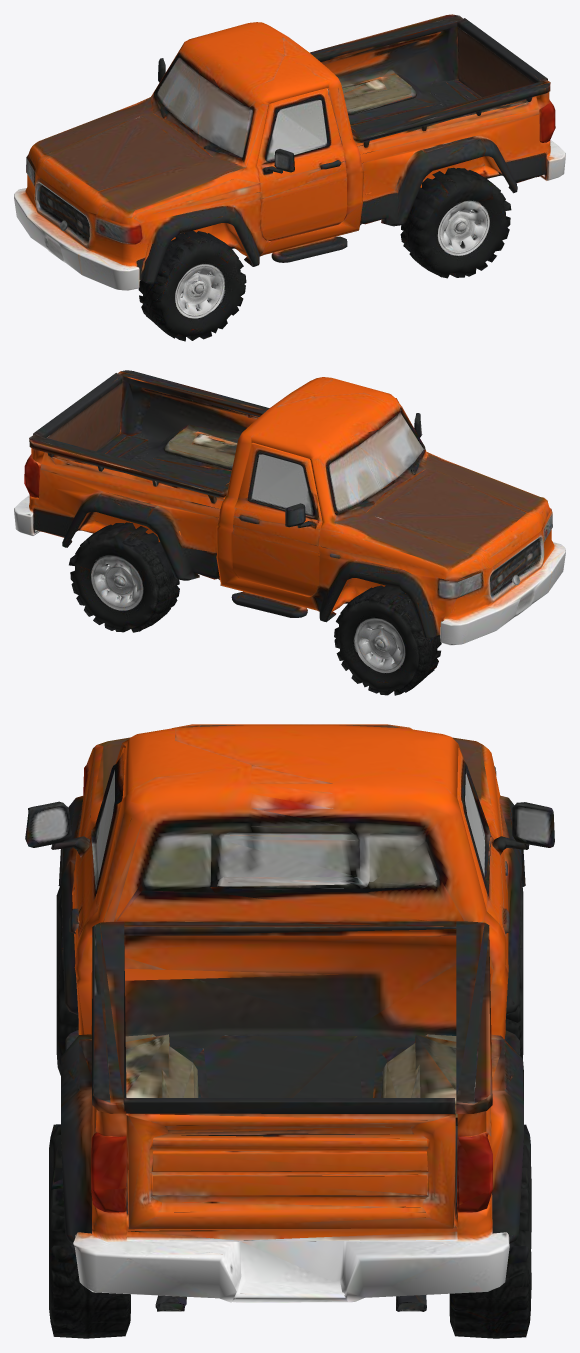
Rendered from trafficPickup.26430aa6.glb.
3 views of the same model, one above another, from view 1: azimuth 30°, elevation 25°; view 2: azimuth 150°, elevation 25°; view 3: azimuth 270°, elevation 25° (orthographic). The views are drawn at different scales.
Bounding box in the file's own units: 0.9556 × 0.4258 × 0.4692.
Materials: 1 (1 with a texture image).
